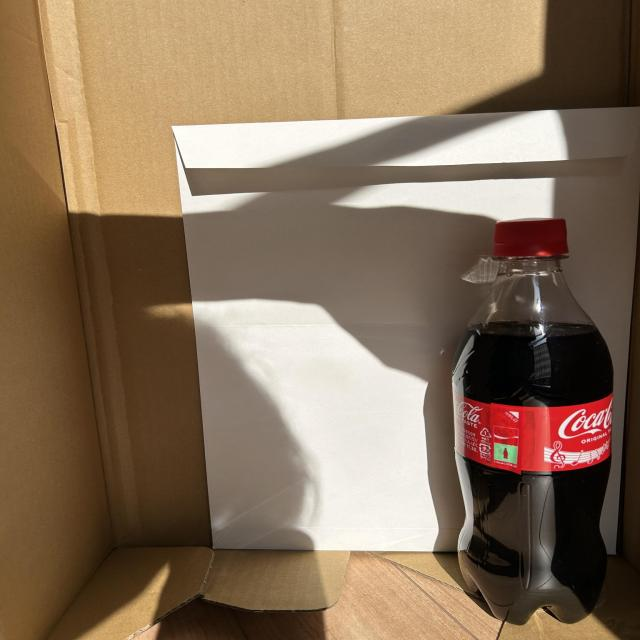high: (452, 219, 613, 623)
